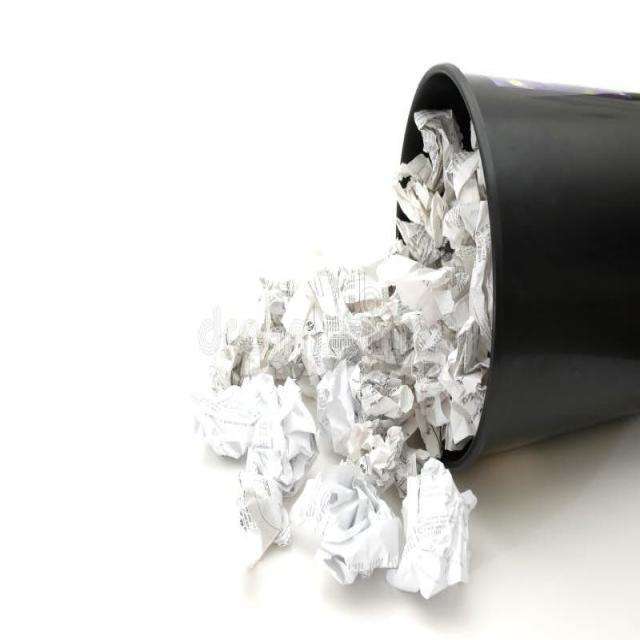paper: (218, 134, 465, 581)
